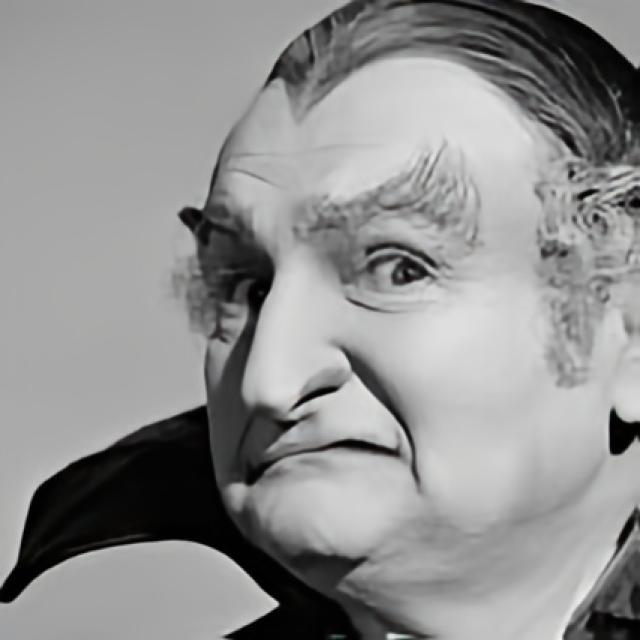disgust: (176, 47, 611, 602)
